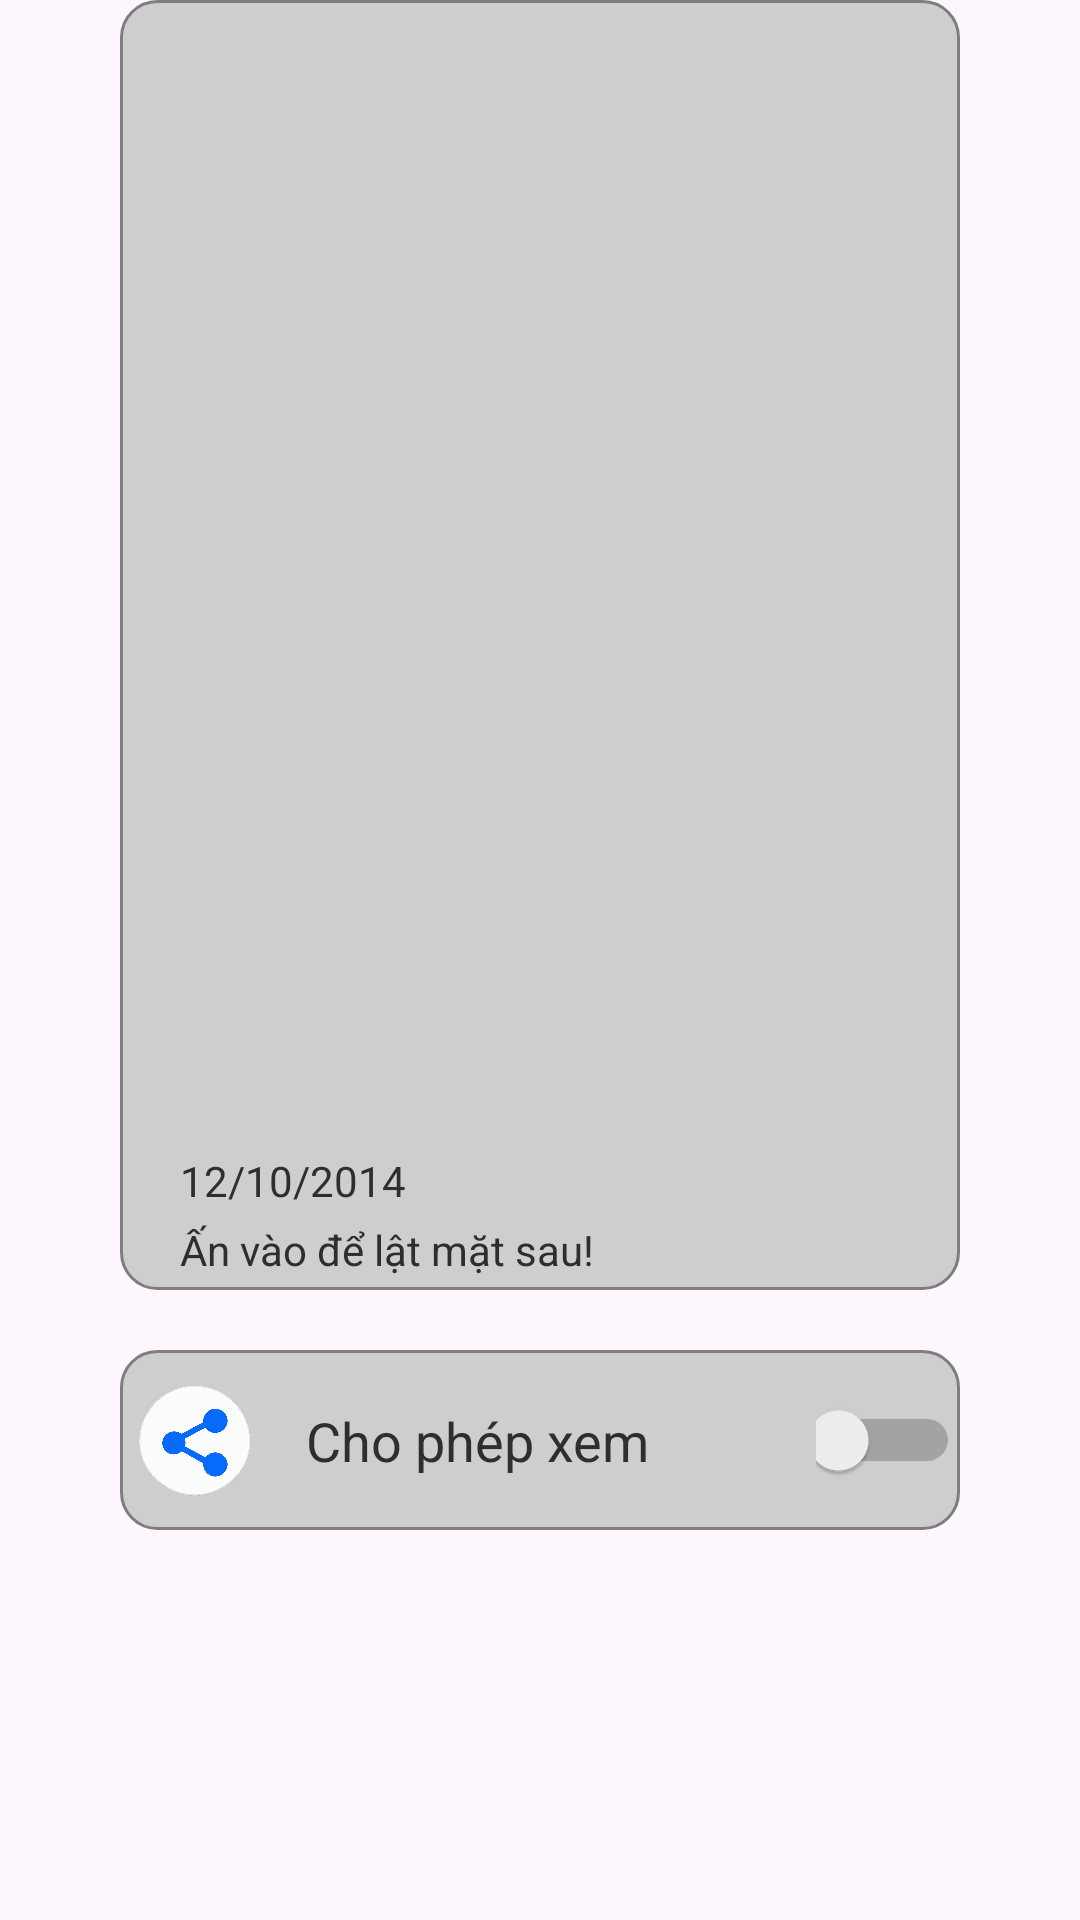

Screen size 1080×1920. Icon name, then its center in pixels as point (x, y):
share: point (194, 1441)
